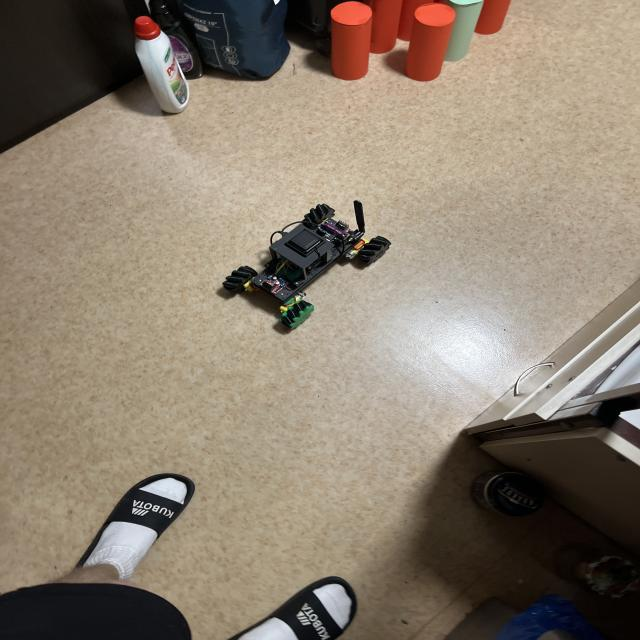robot: (223, 201, 391, 329)
